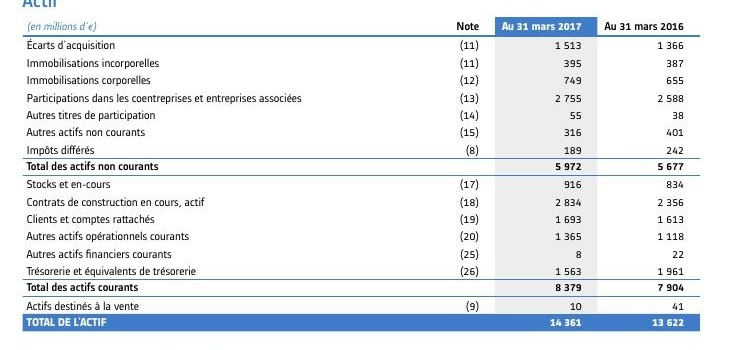table: (0, 0, 733, 350)
